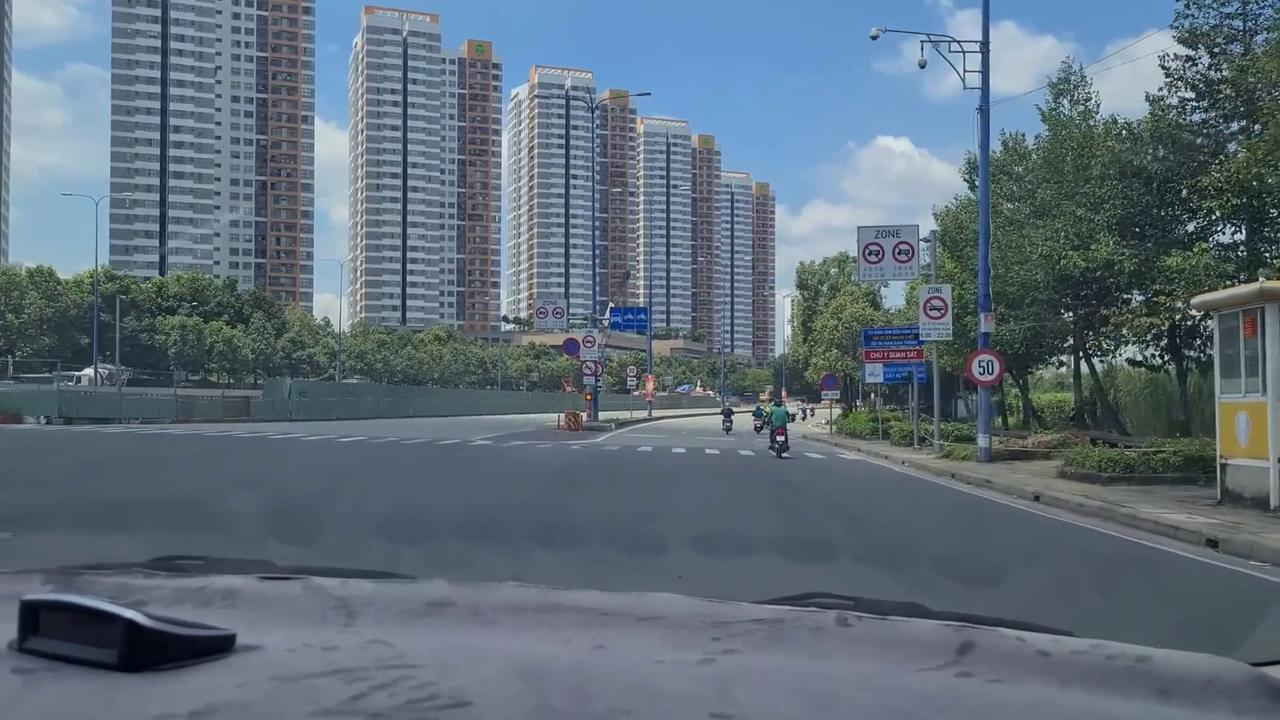Biển phụ: (627, 377, 637, 389)
Cấm cac phương tiện hoạt động trong khung giờ cố định: (857, 226, 919, 280), (919, 284, 953, 340), (533, 299, 567, 329), (580, 329, 599, 361)
Cấm dừng - Cấm đỗ: (562, 337, 580, 356), (820, 373, 839, 391)
Cấm xe máy: (582, 361, 596, 375)
Giới hạn tốc độ 50Km/h: (966, 349, 1004, 386)
Giới hạn tốc độ 80Km/h: (626, 364, 637, 376)
Khác: (863, 327, 927, 383)
Làn đường cho từng xe: (609, 306, 649, 332)
